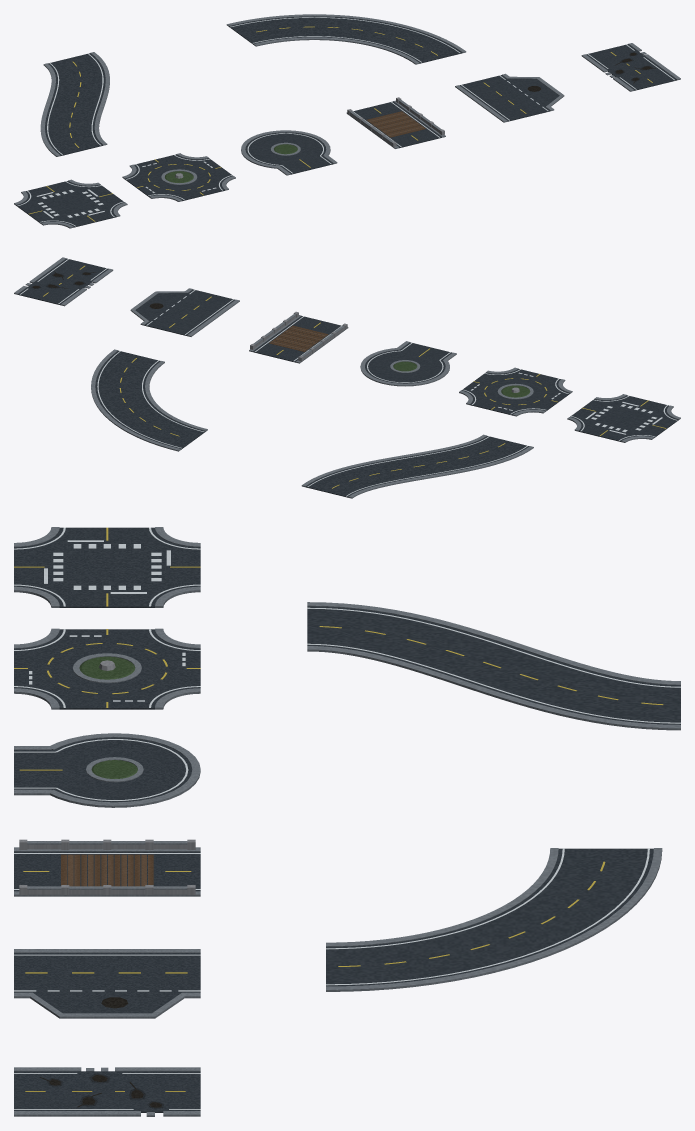
Rendered from NewRoads.glb.
3 renders of one model, top to bottom at view 1: azimuth 30°, elevation 25°; view 2: azimuth 150°, elevation 25°; view 3: azimuth 270°, elevation 25°, orthographic. The views are drawn at different scales.
Visible parts, largest first — view 1: Road_WideTurn90, Road_SCurve, Road_CrossIntersection, Road_Roundabout, Road_PulloffBay, Road_CulDeSac, Road_Bridge, Road_DamagedRough; view 2: Road_WideTurn90, Road_SCurve, Road_Roundabout, Road_CrossIntersection, Road_PulloffBay, Road_CulDeSac, Road_Bridge, Road_DamagedRough; view 3: Road_WideTurn90, Road_SCurve, Road_Roundabout, Road_CrossIntersection, Road_PulloffBay, Road_CulDeSac, Road_Bridge, Road_DamagedRough.
Part boxes in pixels (x1,y1,x2,y2): Road_WideTurn90: [226, 14, 466, 64]; Road_SCurve: [40, 52, 109, 156]; Road_CrossIntersection: [14, 179, 127, 228]; Road_Roundabout: [122, 153, 235, 201]; Road_PulloffBay: [455, 73, 564, 122]; Road_CulDeSac: [241, 130, 337, 175]; Road_Bridge: [346, 97, 445, 148]; Road_DamagedRough: [581, 43, 680, 91]; Road_WideTurn90: [91, 349, 207, 451]; Road_SCurve: [301, 434, 533, 498]; Road_Roundabout: [459, 367, 572, 416]; Road_CrossIntersection: [567, 394, 680, 442]; Road_PulloffBay: [130, 288, 239, 336]; Road_CulDeSac: [360, 341, 456, 386]; Road_Bridge: [249, 311, 348, 363]; Road_DamagedRough: [14, 257, 113, 306]; Road_WideTurn90: [326, 848, 662, 991]; Road_SCurve: [307, 602, 680, 730]; Road_Roundabout: [14, 628, 200, 709]; Road_CrossIntersection: [14, 527, 200, 607]; Road_PulloffBay: [14, 949, 200, 1018]; Road_CulDeSac: [14, 733, 200, 807]; Road_Bridge: [14, 839, 200, 896]; Road_DamagedRough: [14, 1067, 200, 1116].
Size of the model in its own units: 208 by 1.55 by 100.
1 material, 1 textured.
